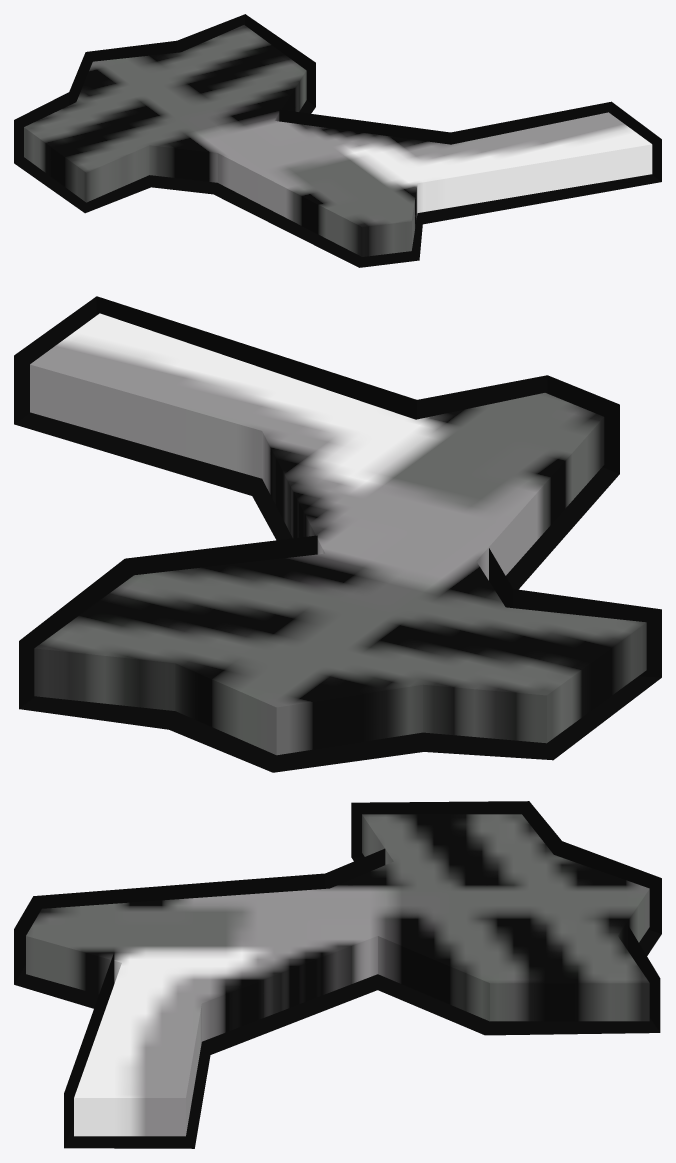
Rendered from Item_Apparel_AirwireHeadset_Things_Pawn_Humanlike_Apparel_AirwireHeadset_AirwireHeadset.glb.
3 renders of one model, top to bottom at view 1: azimuth 30°, elevation 25°; view 2: azimuth 150°, elevation 25°; view 3: azimuth 270°, elevation 25°, orthographic. The views are drawn at different scales.
Parts seen in each view (by area): view 1: Body, Outline; view 2: Body, Outline; view 3: Body, Outline.
Boxes of the visible parts, bbox=[...] form: Body: bbox=[24, 25, 652, 256]; Outline: bbox=[14, 14, 661, 267]; Body: bbox=[30, 313, 646, 755]; Outline: bbox=[14, 296, 661, 772]; Body: bbox=[26, 814, 649, 1136]; Outline: bbox=[14, 801, 661, 1148].
Size of the model in its own units: 0.3379 by 0.0347 by 0.3165.
2 materials, 1 textured.
